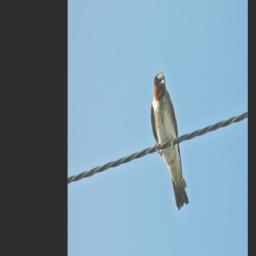Swallow: (150, 70, 190, 211)
